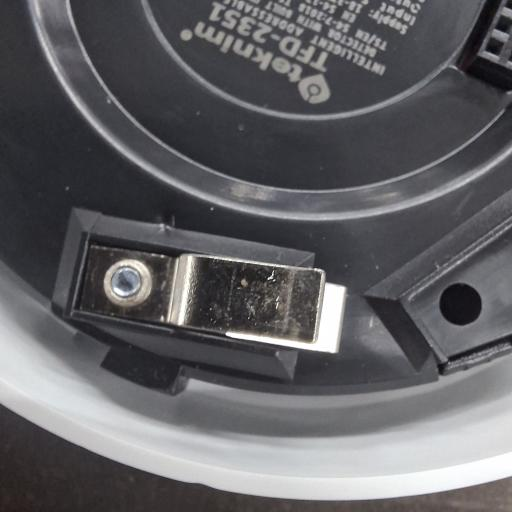yayli: (74, 240, 353, 366)
